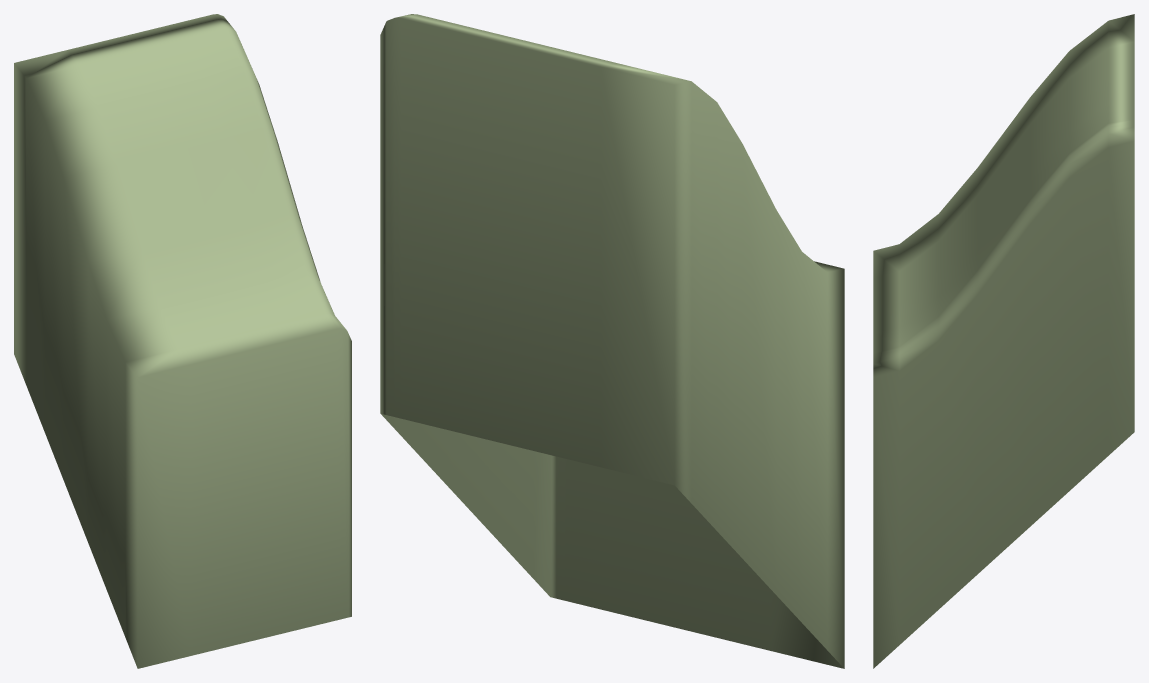
The model's file is ground-ramp-r-00.glb.
The picture shows the model from 3 angles, left to right: view 1: azimuth 30°, elevation 25°; view 2: azimuth 150°, elevation 25°; view 3: azimuth 270°, elevation 25°; orthographic projection. The views are drawn at different scales.
Visible parts, largest first — view 1: ground-ramp-r-00; view 2: ground-ramp-r-00; view 3: ground-ramp-r-00.
Part boxes in pixels (box(x1,y1,x2,y2)): ground-ramp-r-00: box(14, 14, 351, 668); ground-ramp-r-00: box(380, 14, 844, 668); ground-ramp-r-00: box(873, 14, 1134, 668).
Size of the model in its own units: 1 by 2.3 by 1.
